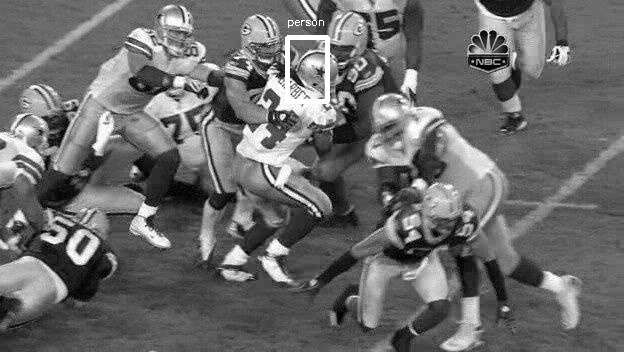person: (303, 52, 338, 96), (302, 52, 337, 96), (304, 52, 339, 96), (303, 51, 338, 95), (303, 53, 338, 97)
target_negative: (162, 184, 581, 254), (220, 193, 255, 327), (489, 227, 537, 293), (227, 289, 278, 346)
